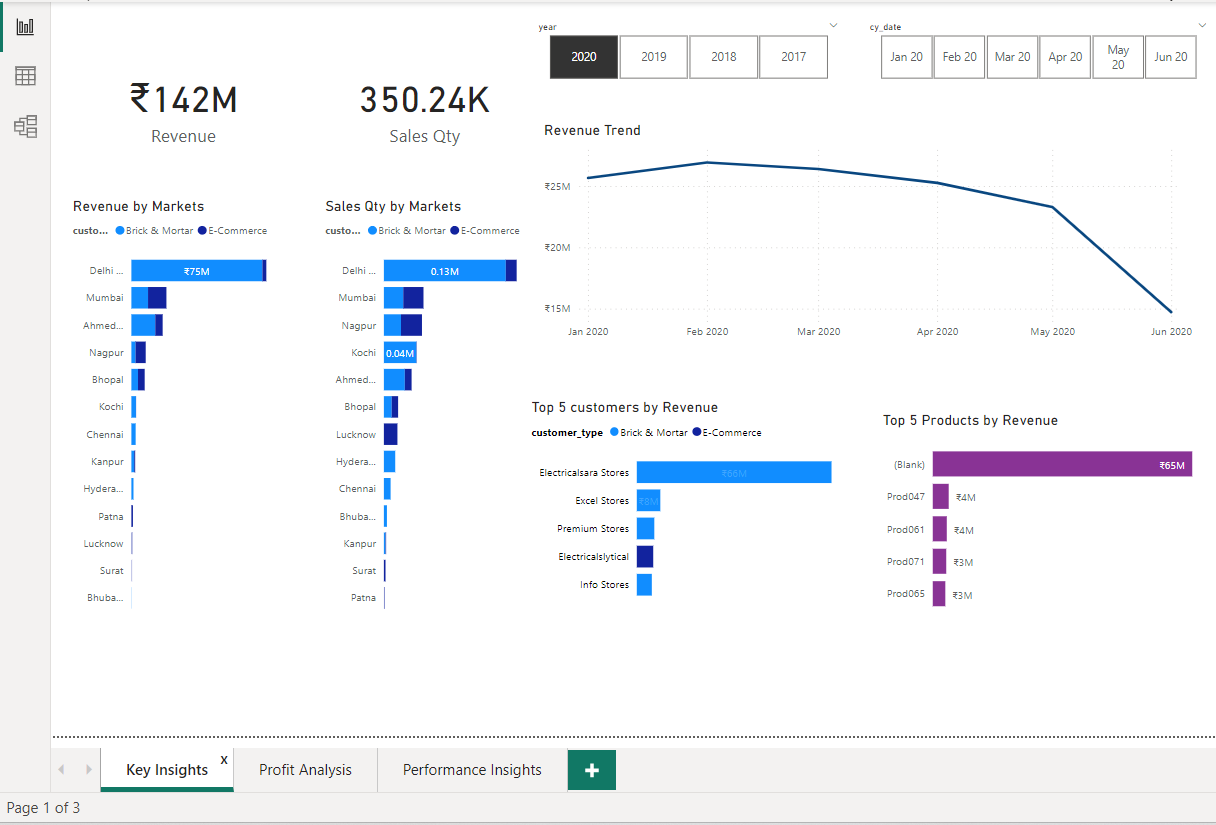

What the dashboard file says about the page in this screenshot:
{"tool":"powerbi","page":{"name":"Key Insights","canvas":[1350,850],"ordinal":0},"visuals":[{"type":"card","fields":{"Values":["BaseMeasures.Revenue"]},"box":[20.3,17.4,266.3,208.4],"z":0},{"type":"card","fields":{"Values":["BaseMeasures.Sales Qty"]},"box":[299.6,17.4,266.3,208.4],"z":1000},{"type":"barChart","title":"Revenue by Markets","fields":{"Y":["BaseMeasures.Revenue"],"Category":["sales markets.markets_name"],"Series":["sales customers.customer_type"]},"box":[20.3,225.8,238.8,495],"z":2000},{"type":"barChart","title":"Sales Qty by Markets","fields":{"Y":["BaseMeasures.Sales Qty"],"Category":["sales markets.markets_name"],"Series":["sales customers.customer_type"]},"box":[312.6,225.8,238.8,495],"z":3000},{"type":"slicer","fields":{"Values":["sales date.year"]},"box":[551.4,17.4,371.9,78.2],"z":4000},{"type":"slicer","fields":{"Values":["sales date.cy_date"]},"box":[934.9,17.4,415.4,78.2],"z":5000},{"type":"barChart","title":"Top 5 customers by Revenue","fields":{"Y":["BaseMeasures.Revenue"],"Category":["sales customers.custmer_name"],"Series":["sales customers.customer_type"]},"box":[551.4,458.8,406.7,247.5],"z":6000},{"type":"barChart","title":"Top 5 Products by Revenue","fields":{"Y":["BaseMeasures.Revenue"],"Category":["sales products.product_code"]},"box":[958.1,473.3,392.2,247.5],"z":7000},{"type":"lineChart","title":"Revenue Trend","fields":{"Y":["BaseMeasures.Revenue"],"Category":["sales date.cy_date"]},"box":[565.9,137.5,759.8,262],"z":8000}]}

Visuals, with their boxes on the page's 1350x850 design canvas (x1, y1, x2, y2). These are canvas units, not pixel positions in the 1216x825 screenshot, which may show the page scaled, cropped or inside an application window:
card - BaseMeasures.Revenue: (20, 17, 287, 226)
card - BaseMeasures.Sales Qty: (300, 17, 566, 226)
"Revenue by Markets" barChart: (20, 226, 259, 721)
"Sales Qty by Markets" barChart: (313, 226, 551, 721)
slicer - sales date.year: (551, 17, 923, 96)
slicer - sales date.cy_date: (935, 17, 1350, 96)
"Top 5 customers by Revenue" barChart: (551, 459, 958, 706)
"Top 5 Products by Revenue" barChart: (958, 473, 1350, 721)
"Revenue Trend" lineChart: (566, 138, 1326, 400)
